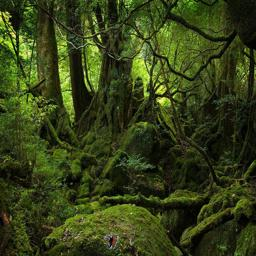Cuckoo: (104, 234, 119, 249)
